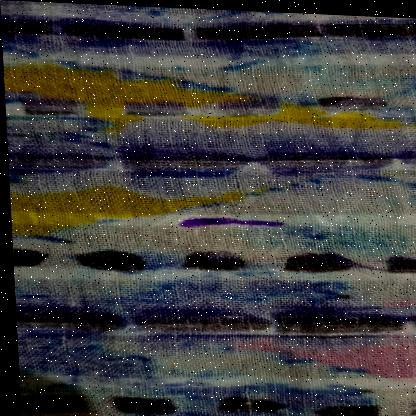spot: (156, 205, 293, 234)
